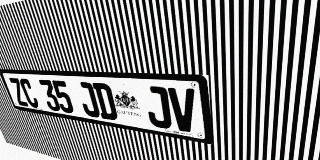3: (38, 79, 62, 112)
5: (51, 80, 75, 114)
C: (18, 78, 40, 108)
D: (92, 83, 119, 121)
J: (143, 86, 172, 129), (76, 82, 101, 118)
V: (168, 87, 198, 134)
Z: (8, 78, 29, 107)
